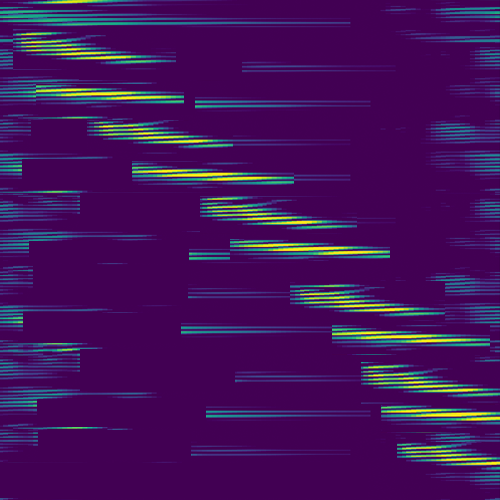semblance: (12, 30, 166, 66), (290, 282, 425, 315), (360, 363, 494, 395), (198, 194, 326, 227), (331, 322, 481, 347), (88, 119, 219, 146), (231, 238, 391, 260), (35, 84, 186, 106), (131, 164, 285, 185), (397, 441, 500, 467), (381, 403, 500, 424)
